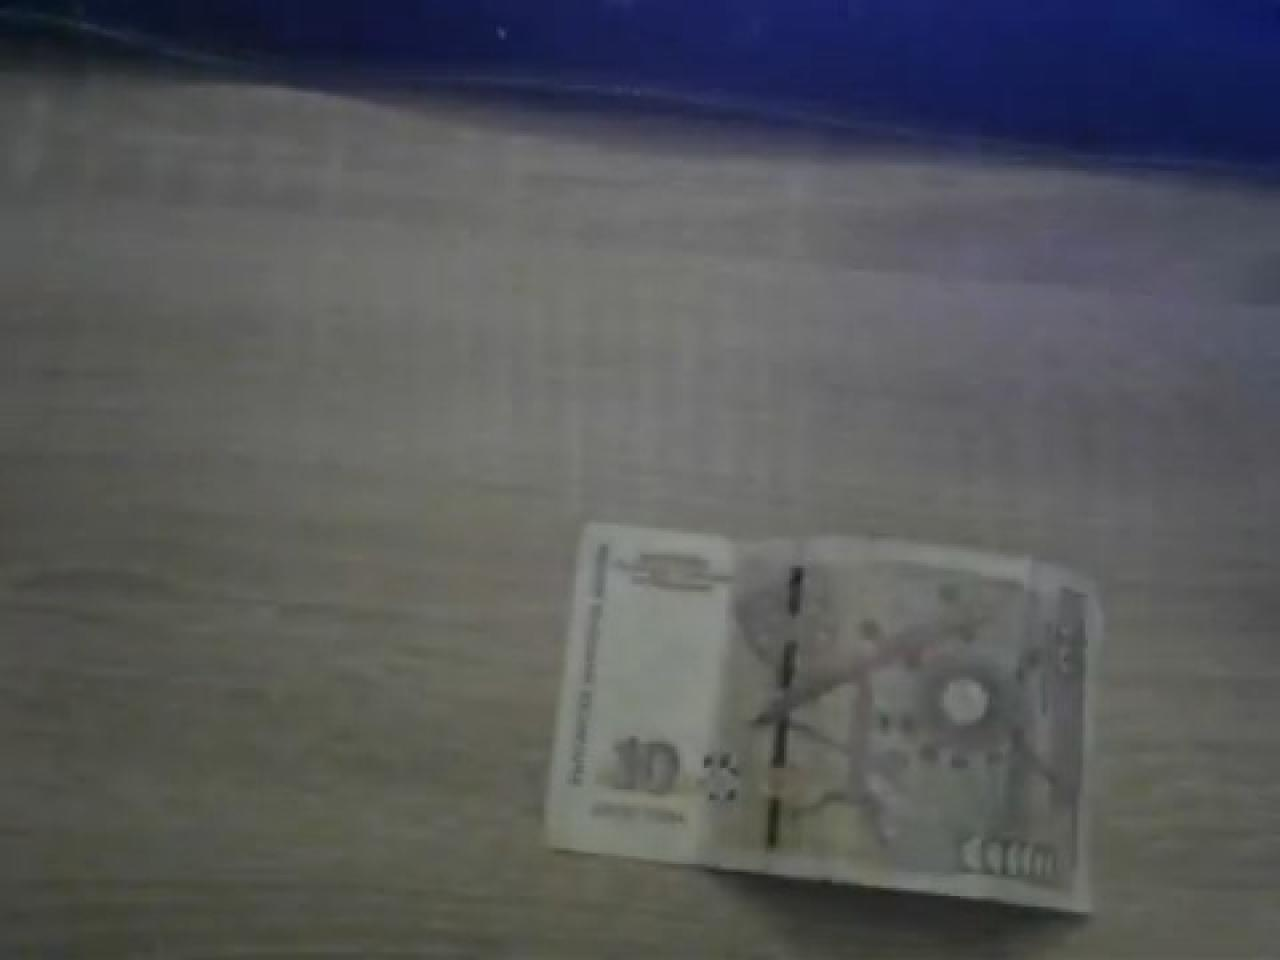10leva: (541, 522, 1107, 923)
